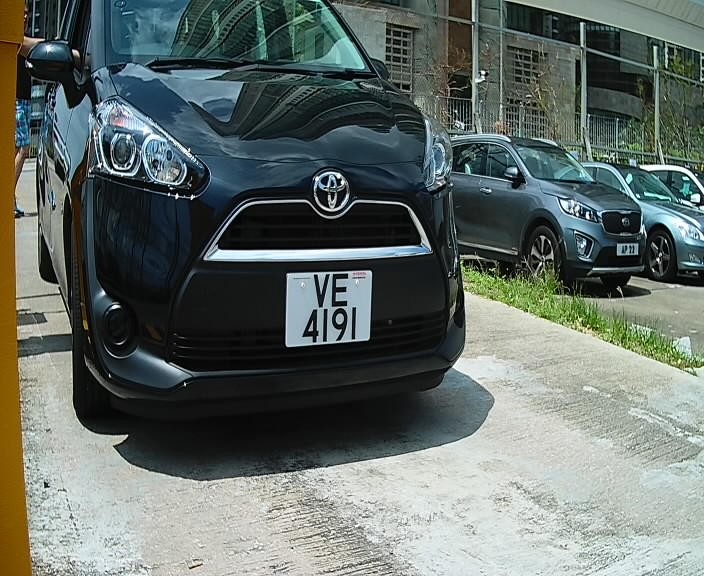Car: (15, 2, 479, 470)
License Plate: (277, 266, 381, 355)
